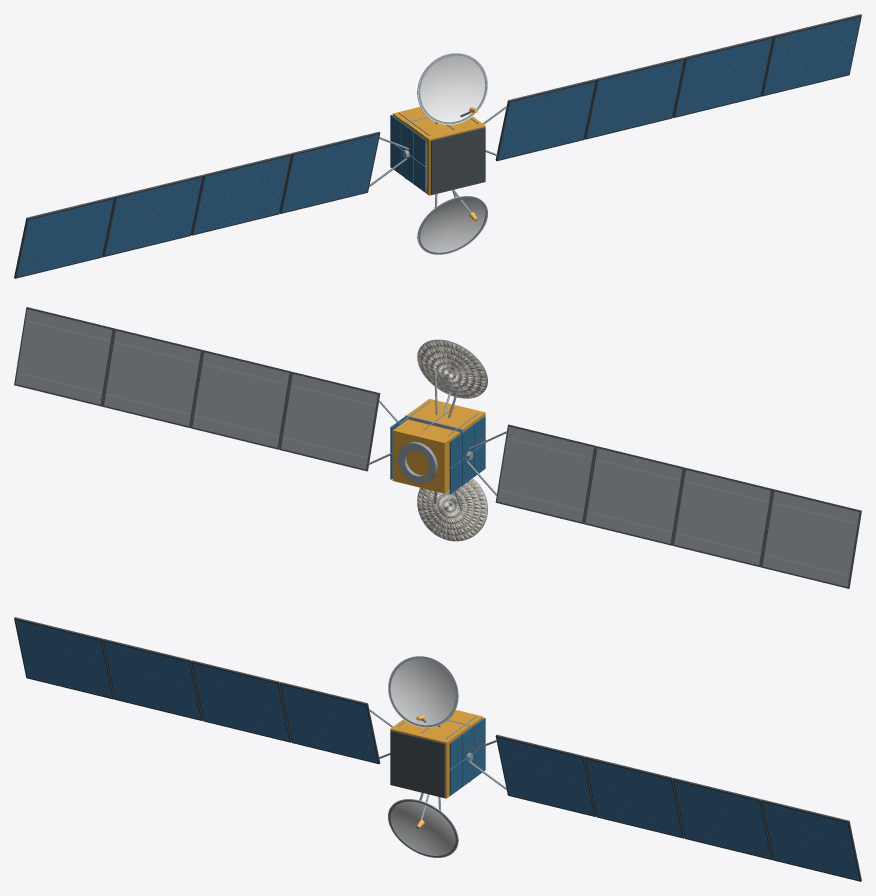
The model's file is nahuel-1a.glb.
3 renders of one model, top to bottom at view 1: azimuth 30°, elevation 25°; view 2: azimuth 150°, elevation 25°; view 3: azimuth 330°, elevation 25°, orthographic.
Visible parts, largest first — view 1: Solar cell panel (×8), Solar panel frame (×8), Reflector 2 face, Earth-facing deck, Reflector 1 face, Payload module, Reflector 2 edge, Reflector 1 edge; view 2: Rear array substrate (×8), Solar panel frame (×8), Reflector 1 insulated back, Service module, Reflector 2 insulated back, Payload module, Launch adapter ring; view 3: Solar cell panel (×8), Solar panel frame (×8), Reflector 2 face, Earth-facing deck, Reflector 1 face, Payload module, Reflector 2 edge, Reflector 1 edge.
Part boxes in pixels (x1=…): Solar cell panel (×8): x1=16, y1=17, x2=860, y2=277; Solar panel frame (×8): x1=14, y1=14, x2=861, y2=278; Reflector 2 face: x1=418, y1=53, x2=487, y2=124; Earth-facing deck: x1=430, y1=127, x2=485, y2=194; Reflector 1 face: x1=418, y1=196, x2=487, y2=254; Payload module: x1=406, y1=116, x2=485, y2=195; Reflector 2 edge: x1=417, y1=53, x2=487, y2=124; Reflector 1 edge: x1=417, y1=196, x2=487, y2=254; Rear array substrate (×8): x1=15, y1=309, x2=859, y2=586; Solar panel frame (×8): x1=14, y1=307, x2=861, y2=588; Reflector 1 insulated back: x1=417, y1=478, x2=487, y2=541; Service module: x1=392, y1=419, x2=459, y2=493; Reflector 2 insulated back: x1=417, y1=340, x2=487, y2=398; Payload module: x1=407, y1=398, x2=485, y2=431; Launch adapter ring: x1=398, y1=441, x2=437, y2=483; Solar cell panel (×8): x1=15, y1=620, x2=859, y2=880; Solar panel frame (×8): x1=14, y1=617, x2=861, y2=881; Reflector 2 face: x1=388, y1=656, x2=457, y2=727; Earth-facing deck: x1=390, y1=730, x2=445, y2=797; Reflector 1 face: x1=388, y1=799, x2=457, y2=857; Payload module: x1=390, y1=719, x2=469, y2=798; Reflector 2 edge: x1=388, y1=656, x2=458, y2=727; Reflector 1 edge: x1=388, y1=799, x2=458, y2=857.
Bounding box in the file's own units: 22.18 × 5.07 × 2.34.
10 materials, 2 textured.
